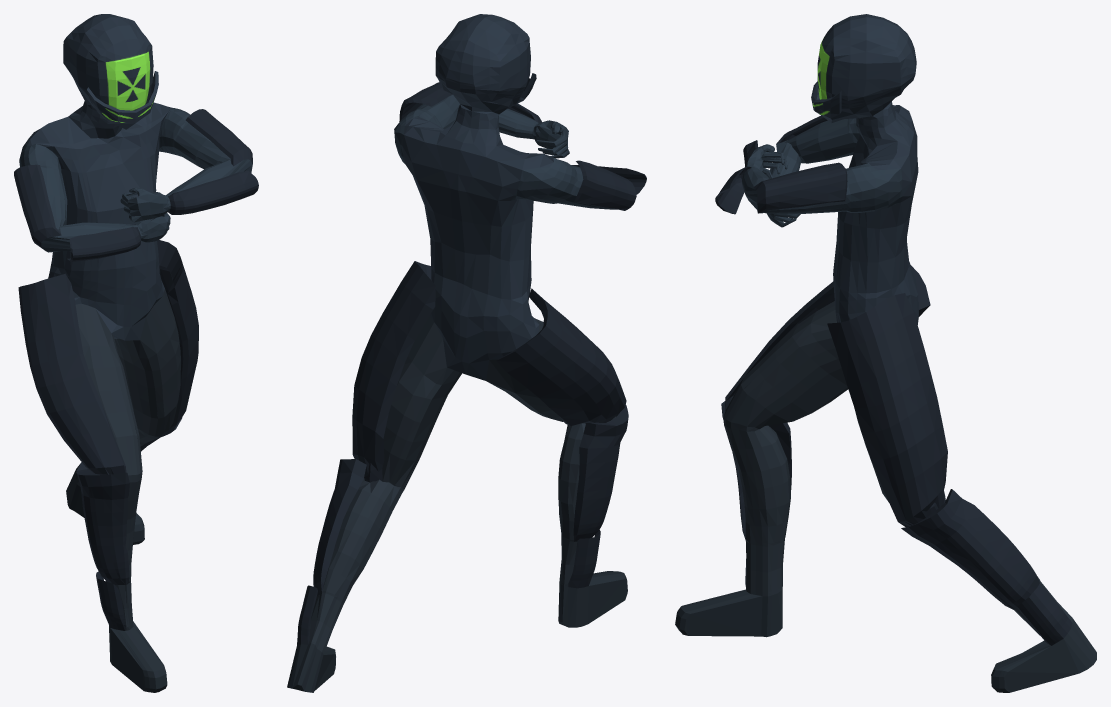
File: Bastion_WR_000011.obj
The picture shows the model from 3 angles, left to right: view 1: azimuth 30°, elevation 25°; view 2: azimuth 150°, elevation 25°; view 3: azimuth 270°, elevation 25°; orthographic projection. The views are drawn at different scales.
Visible parts, largest first — view 1: Cube.002; view 2: Cube.002; view 3: Cube.002.
Part boxes in pixels (x1=…): Cube.002: x1=14, y1=14, x2=258, y2=692; Cube.002: x1=287, y1=14, x2=646, y2=692; Cube.002: x1=675, y1=14, x2=1096, y2=692.
Size of the model in its own units: 1.34 by 3.59 by 2.16.
